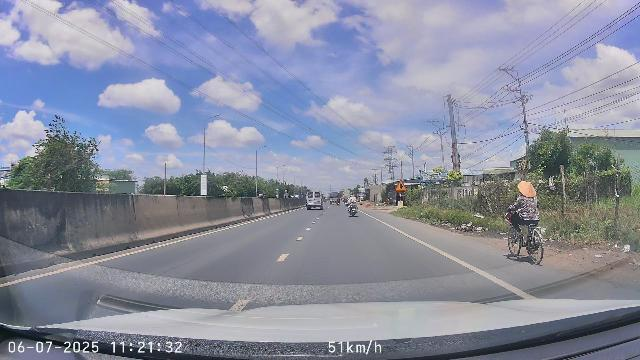207-giao-nhau-voi-duong-khong-uu-tien: (395, 179, 407, 191)
